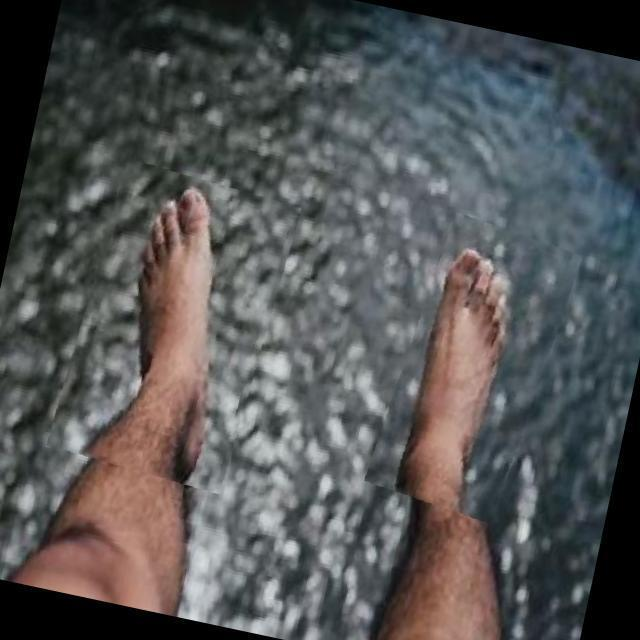No_Shoes: (99, 176, 247, 498), (391, 206, 507, 507)
